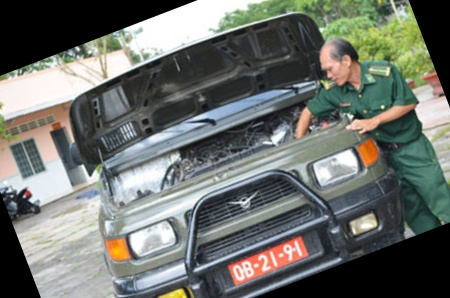plate: (223, 233, 308, 283)
